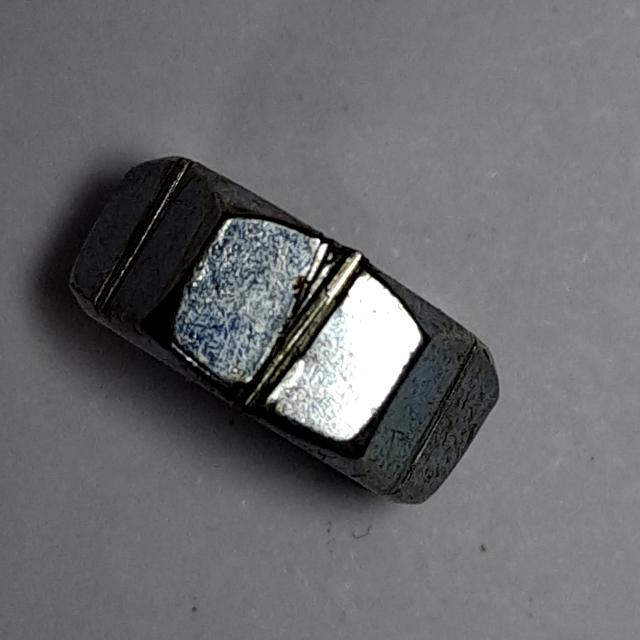Side_Scratches: (58, 141, 511, 517)
